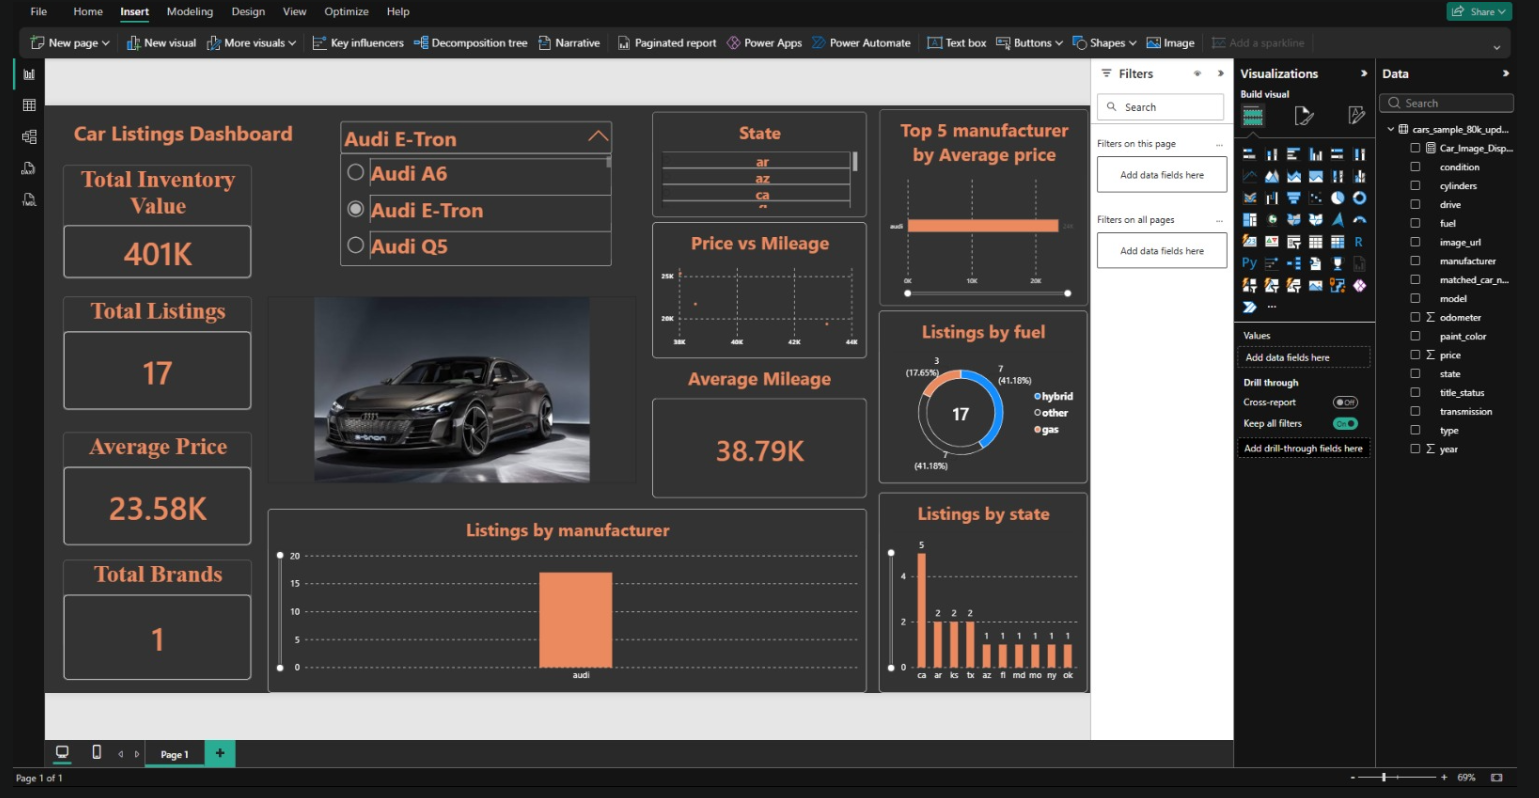

This screenshot's page, from the dashboard's own definition file:
{"tool":"powerbi","page":{"name":"Page 1","canvas":[1920,1080],"ordinal":0},"visuals":[{"type":"cardVisual","title":"Total Inventory Value","fields":{"Data":["Sum(cars_sample_80k_updated.price)"]},"box":[33.1,109.4,346.9,208.7],"z":0},{"type":"cardVisual","title":"Average Price","fields":{"Data":["Avg(cars_sample_80k_updated.price)"]},"box":[33.1,600.2,347,208.2],"z":1000},{"type":"cardVisual","title":"Total Brands","fields":{"Data":["Count(cars_sample_80k_updated.manufacturer)"]},"box":[33.1,834.8,347,221.4],"z":2000},{"type":"cardVisual","title":"Total Listings","fields":{"Data":["CountNonNull(cars_sample_80k_updated.price)"]},"box":[33.1,351.2,346.9,208.7],"z":3000},{"type":"slicer","fields":{"Values":["cars_sample_80k_updated.matched_car_name"]},"box":[538.3,24.5,508.1,132.4],"z":4000},{"type":"image","box":[408.8,339.7,677.9,352.6],"z":5000},{"type":"textbox","box":[47.5,24.5,413.1,61.9],"z":6000},{"type":"clusteredBarChart","title":"Top 5 manufacturer by Average price","fields":{"Category":["cars_sample_80k_updated.manufacturer"],"Y":["Avg(cars_sample_80k_updated.price)"]},"box":[1532.8,7.2,384.3,361.3],"z":7000},{"type":"donutChart","title":"Listings by fuel","fields":{"Category":["cars_sample_80k_updated.fuel"],"Y":["CountNonNull(cars_sample_80k_updated.price)"]},"box":[1531.4,377.1,384.3,316.6],"z":8000},{"type":"clusteredColumnChart","title":"Listings by state","fields":{"Category":["cars_sample_80k_updated.state"],"Y":["CountNonNull(cars_sample_80k_updated.price)"]},"box":[1531.4,711,384.3,368.5],"z":9000},{"type":"clusteredColumnChart","title":"Listings by manufacturer","fields":{"Category":["cars_sample_80k_updated.manufacturer"],"Y":["CountNonNull(cars_sample_80k_updated.price)"]},"box":[408.8,741.2,1101,338.2],"z":10000},{"type":"listSlicer","title":"State","fields":{"Values":["cars_sample_80k_updated.state"]},"box":[1115.4,11.5,394.4,194.3],"z":11000},{"type":"scatterChart","title":"Price vs Mileage","fields":{"Category":["cars_sample_80k_updated.model"],"X":["Avg(cars_sample_80k_updated.odometer)"],"Y":["Avg(cars_sample_80k_updated.price)"]},"box":[1115.4,214.5,394.4,250.4],"z":12000},{"type":"cardVisual","title":"Average Mileage","fields":{"Data":["Avg(cars_sample_80k_updated.odometer)"]},"box":[1115.4,477.8,394.4,243.2],"z":13000}]}

Visuals, with their boxes on the page's 1920x1080 design canvas (x1, y1, x2, y2). These are canvas units, not pixel positions in the 1539x798 screenshot, which may show the page scaled, cropped or inside an application window:
"Total Inventory Value" cardVisual: select_region(33, 109, 380, 318)
"Average Price" cardVisual: select_region(33, 600, 380, 808)
"Total Brands" cardVisual: select_region(33, 835, 380, 1056)
"Total Listings" cardVisual: select_region(33, 351, 380, 560)
slicer - cars_sample_80k_updated.matched_car_name: select_region(538, 24, 1046, 157)
image: select_region(409, 340, 1087, 692)
textbox: select_region(48, 24, 461, 86)
"Top 5 manufacturer by Average price" clusteredBarChart: select_region(1533, 7, 1917, 368)
"Listings by fuel" donutChart: select_region(1531, 377, 1916, 694)
"Listings by state" clusteredColumnChart: select_region(1531, 711, 1916, 1080)
"Listings by manufacturer" clusteredColumnChart: select_region(409, 741, 1510, 1079)
"State" listSlicer: select_region(1115, 12, 1510, 206)
"Price vs Mileage" scatterChart: select_region(1115, 214, 1510, 465)
"Average Mileage" cardVisual: select_region(1115, 478, 1510, 721)
